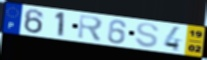1: (53, 11, 67, 38)
4: (162, 25, 184, 53)
6: (24, 8, 45, 35), (107, 19, 128, 45)
R: (77, 13, 105, 43)
S: (134, 22, 161, 49)
